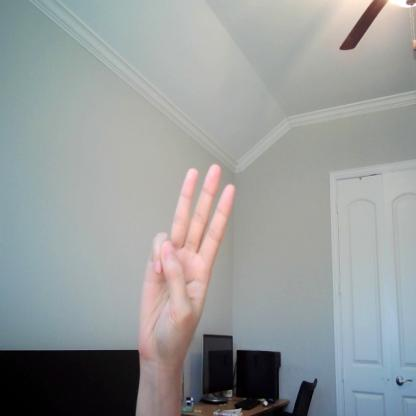six: (130, 149, 238, 367)
